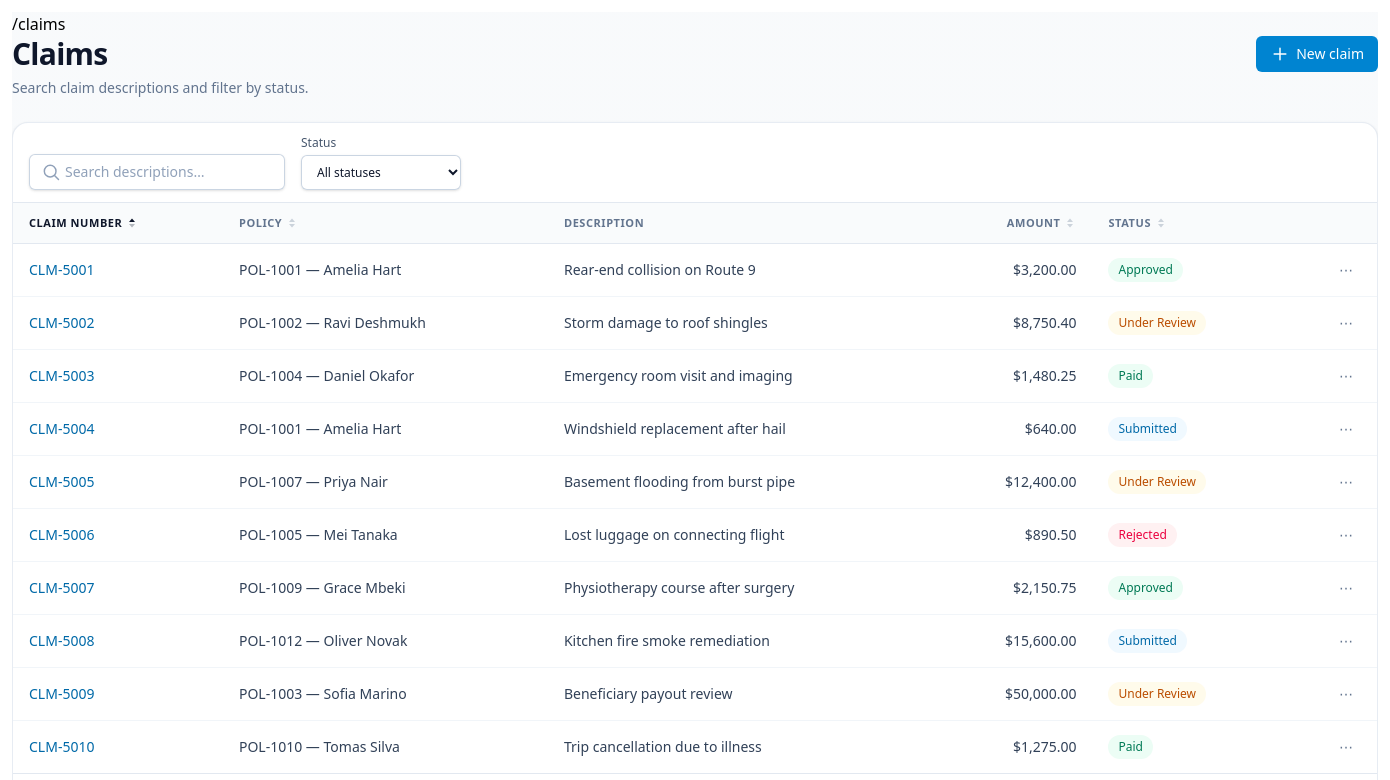
it: ClaimListPage › sorts by amount when the column header is clicked
Expected: the link "CLM-5001" is shown, [29,260,94,279]
Click the button "Amount" at (1042, 223), box [1007,215,1076,231]
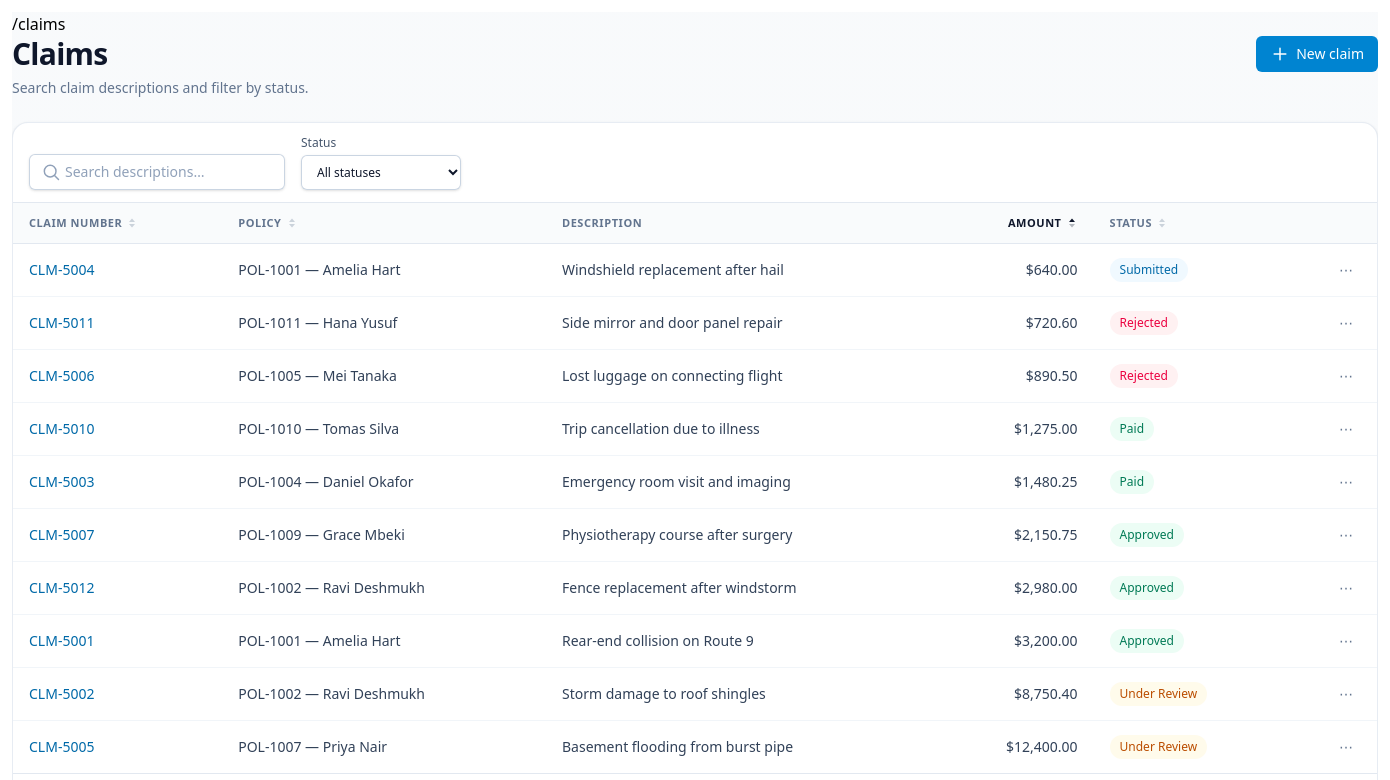
Result: the link "CLM-5004" is shown at [29,260,94,279]
